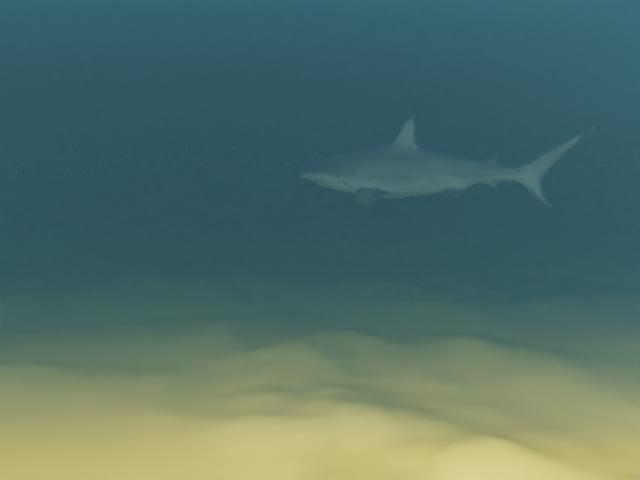Carribean Shark.001: (298, 114, 594, 210)
